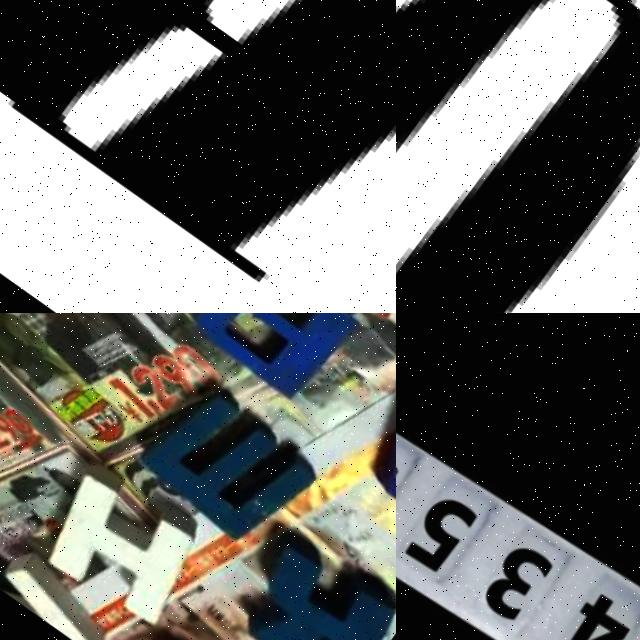3: (471, 524, 580, 638), (396, 433, 422, 539)
4: (545, 566, 640, 640)
5: (396, 473, 504, 591)
D: (149, 626, 309, 640)
H: (31, 454, 227, 631)
K: (227, 519, 396, 640)
M: (135, 373, 338, 554)
N: (360, 376, 396, 540)
P: (181, 313, 362, 399)
